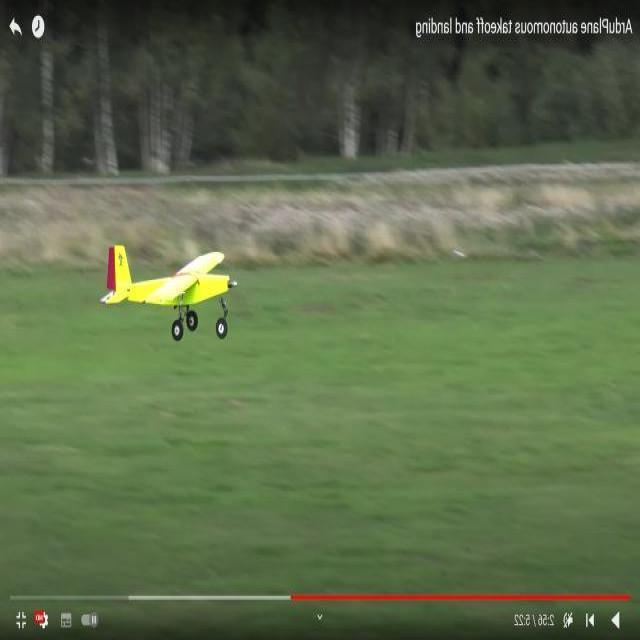iha: (100, 270, 234, 310)
